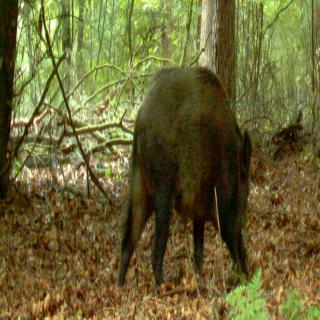Pig: (112, 29, 255, 280)
